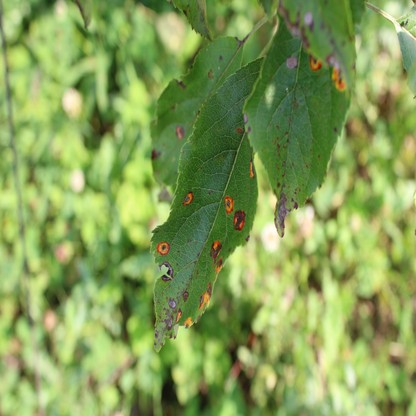frogeye_leaf_spot: (160, 260, 173, 280), (279, 194, 287, 219), (287, 58, 299, 69), (166, 317, 173, 328), (184, 291, 189, 302), (170, 300, 176, 308)
rust: (331, 65, 345, 90), (211, 241, 223, 270), (199, 283, 212, 309), (234, 209, 246, 230), (310, 56, 322, 70), (175, 123, 184, 139), (225, 194, 232, 214), (158, 242, 169, 254), (249, 157, 254, 177), (185, 318, 193, 327), (184, 194, 192, 203), (176, 309, 182, 320), (237, 125, 243, 133)
